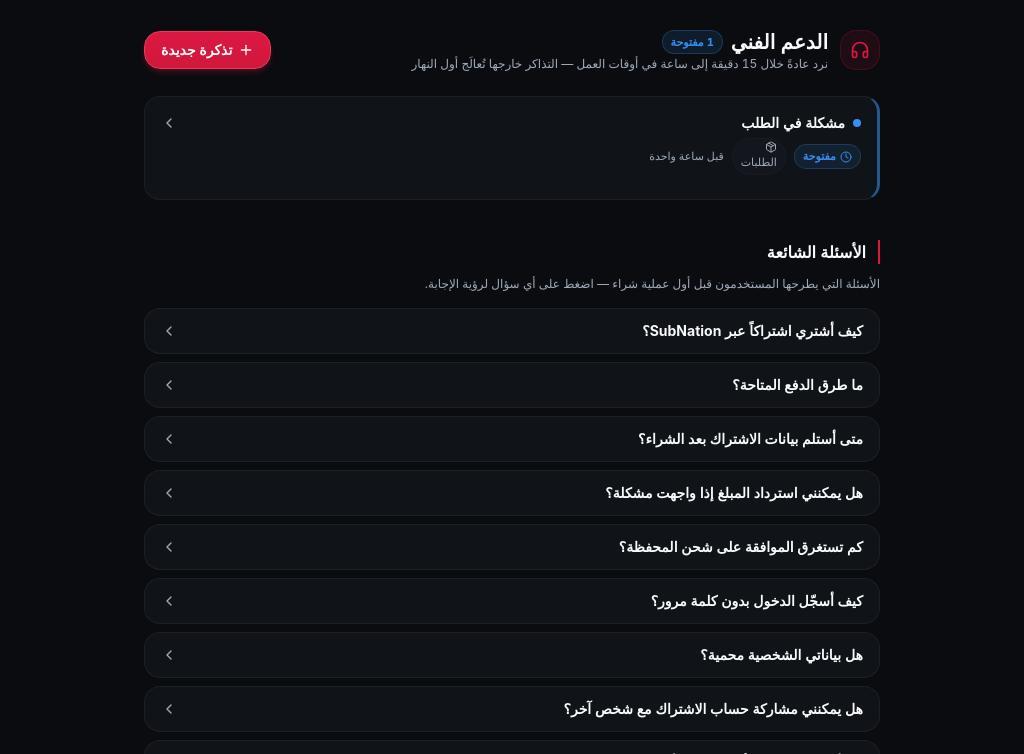
Test: SupportPage — failures are errors, never crashes or fake empties (93-C5 F-05) › a successful detail fetch still opens the ticket thread (guard is not over-strict)
Click the text "مشكلة في الطلب".
click(793, 122)  # box top-left (741, 114), bottom-right (845, 131)
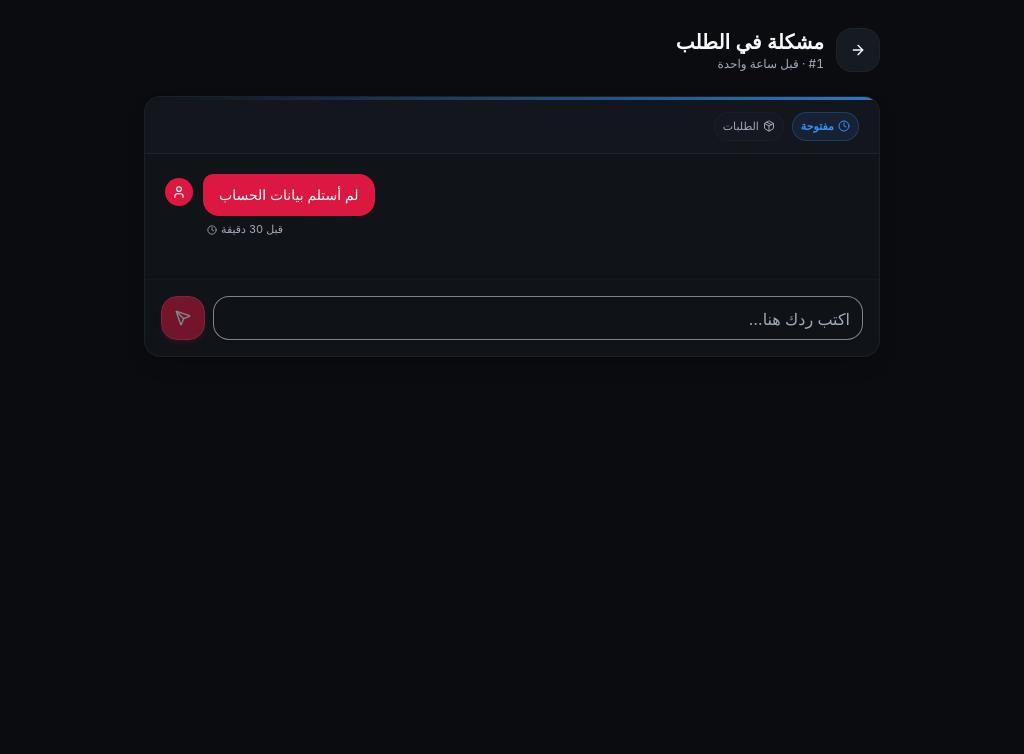
expect the text "لم أستلم بيانات الحساب" is shown: met, box top-left (203, 174), bottom-right (374, 216)
